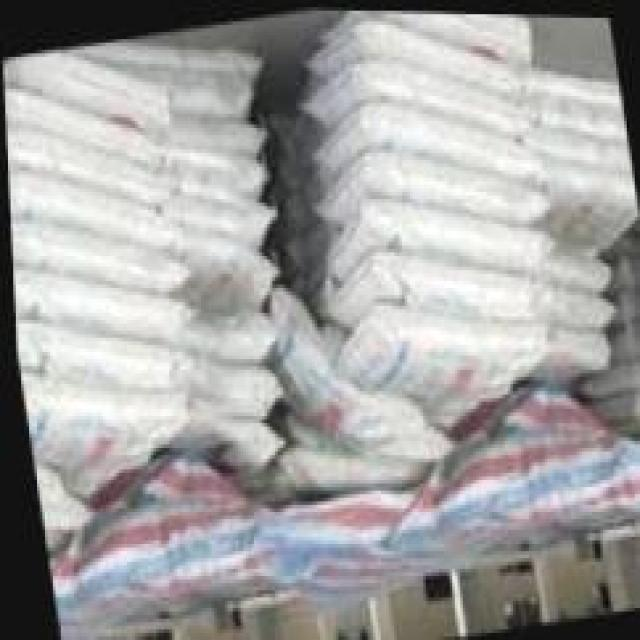gunny_bag: (277, 292, 444, 465), (309, 141, 539, 222), (309, 94, 532, 176), (302, 45, 519, 129), (324, 243, 526, 321), (326, 190, 529, 263), (349, 312, 526, 394), (19, 381, 171, 474), (7, 163, 168, 242), (8, 214, 176, 288), (10, 262, 175, 336), (3, 84, 148, 162), (37, 48, 169, 132), (12, 318, 168, 382), (176, 167, 272, 248), (391, 9, 530, 61), (181, 341, 281, 413), (539, 110, 631, 165), (546, 150, 636, 201), (167, 105, 263, 150), (547, 270, 608, 321), (553, 311, 603, 364)
